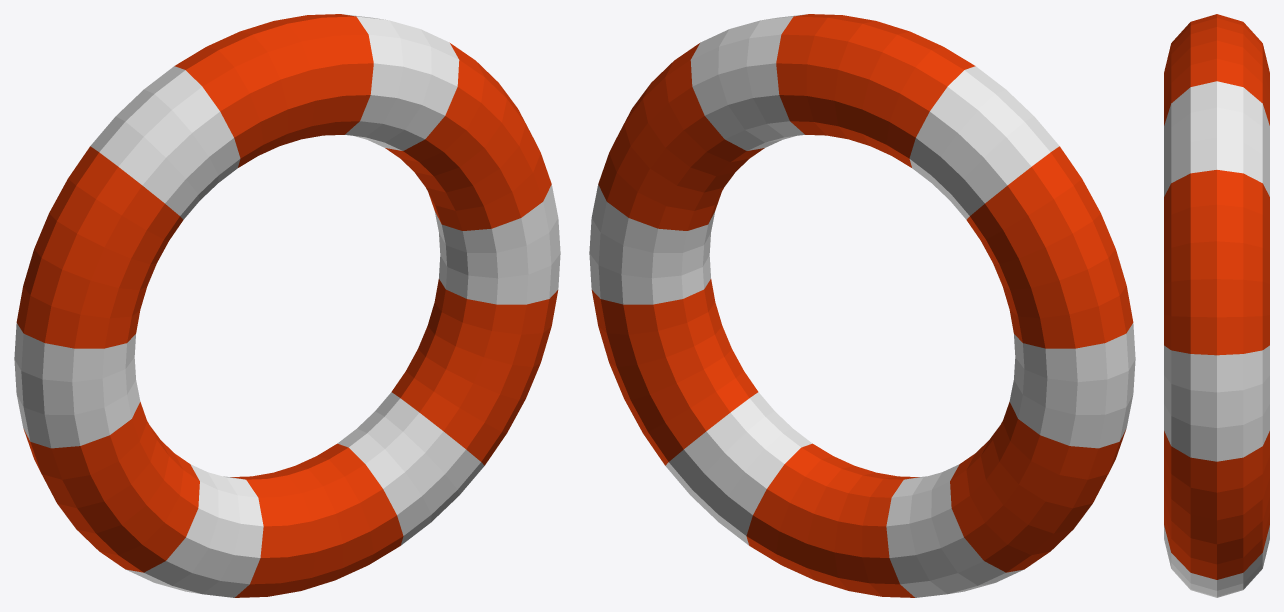
The picture shows the model from 3 angles, left to right: view 1: azimuth 30°, elevation 25°; view 2: azimuth 150°, elevation 25°; view 3: azimuth 270°, elevation 25°; orthographic projection. The views are drawn at different scales.
Parts seen in each view (by area): view 1: Torus.003, Torus.004, Torus.002, Torus.008, Torus.005, Torus.006, Torus.007; view 2: Torus.003, Torus.004, Torus.002, Torus.008, Torus.005, Torus.006, Torus.007, Torus.010; view 3: Torus.003, Torus.007, Torus.008, Torus.002.
Part boxes in pixels (<box>): Torus.003: <box>14,14,560,597</box>; Torus.004: <box>16,146,183,348</box>; Torus.002: <box>174,14,373,167</box>; Torus.008: <box>391,279,558,465</box>; Torus.005: <box>23,402,199,572</box>; Torus.006: <box>230,443,403,597</box>; Torus.007: <box>385,43,551,230</box>; Torus.003: <box>589,14,1135,597</box>; Torus.004: <box>966,146,1133,348</box>; Torus.002: <box>776,14,975,167</box>; Torus.008: <box>591,279,758,465</box>; Torus.005: <box>950,402,1126,572</box>; Torus.006: <box>746,443,919,597</box>; Torus.007: <box>598,43,764,230</box>; Torus.010: <box>681,245,746,473</box>; Torus.003: <box>1164,81,1269,597</box>; Torus.007: <box>1164,170,1269,355</box>; Torus.008: <box>1164,431,1269,579</box>; Torus.002: <box>1164,14,1269,125</box>.
Size of the model in its own units: 0.6379 by 0.6464 by 0.1167.
